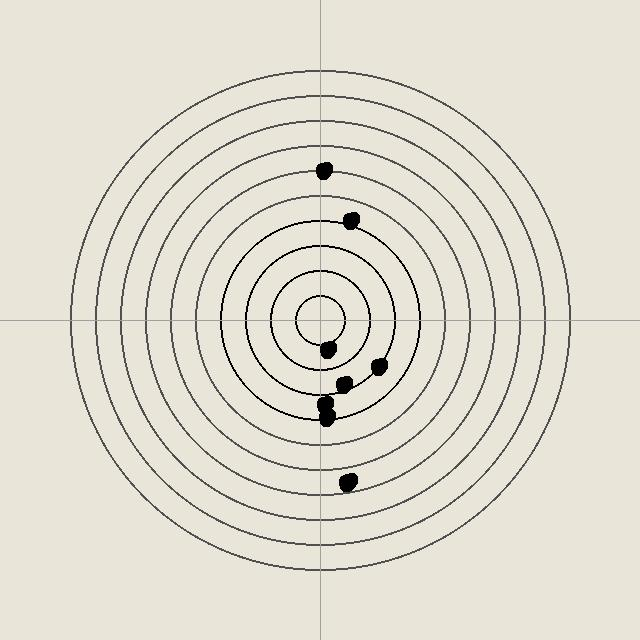vertical_scatter: (313, 160, 333, 180), (368, 356, 388, 376), (314, 394, 334, 414), (340, 210, 360, 230), (333, 374, 353, 394), (317, 339, 337, 359), (338, 471, 358, 491), (336, 472, 356, 492), (316, 407, 336, 427)
